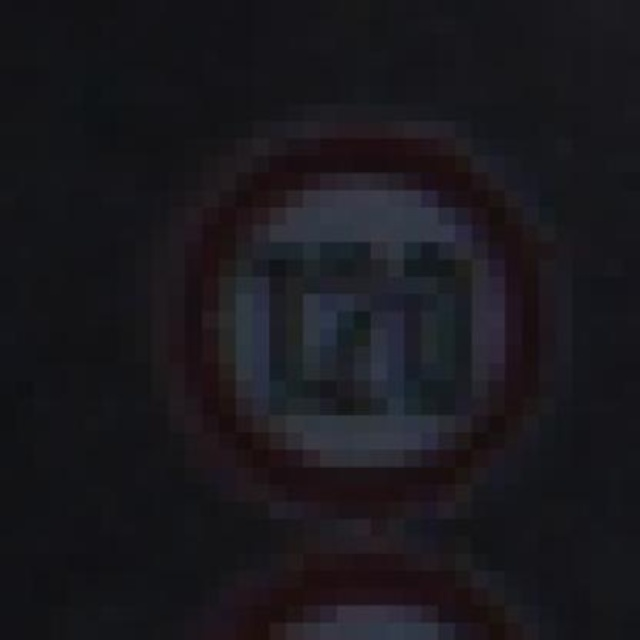Tốc độ tối đa cho phép 120km/h: (180, 135, 542, 508)
